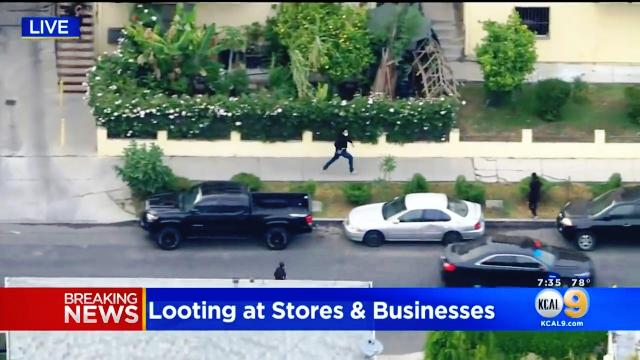berlari: (320, 124, 360, 178)
